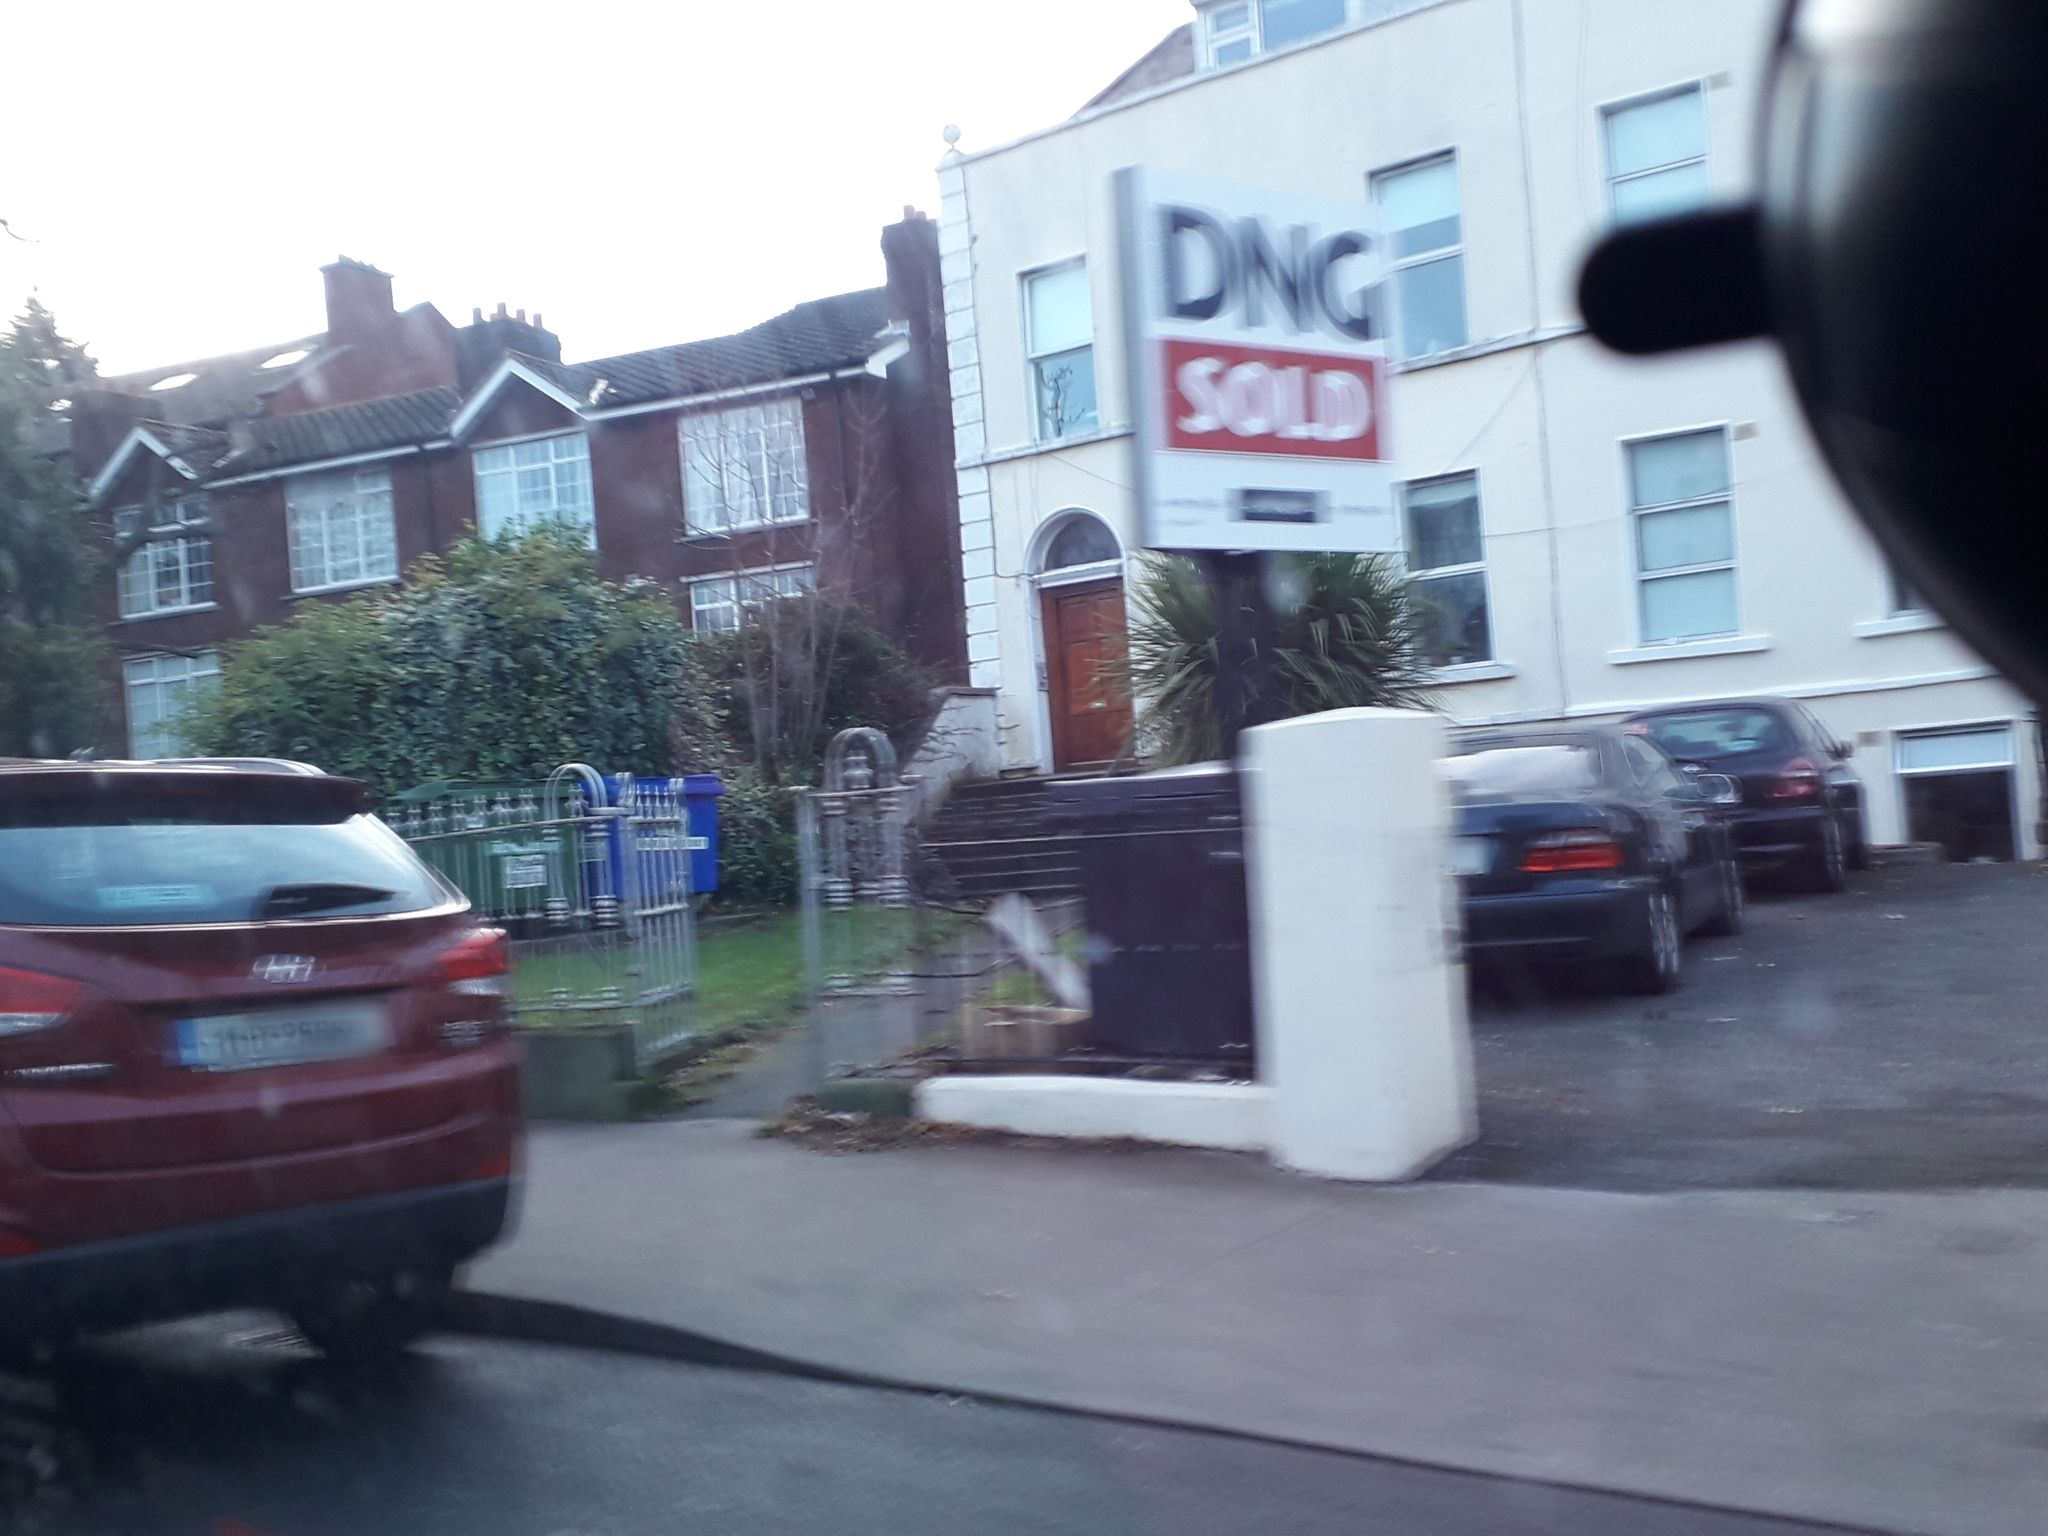property sign: (1084, 139, 1430, 561)
